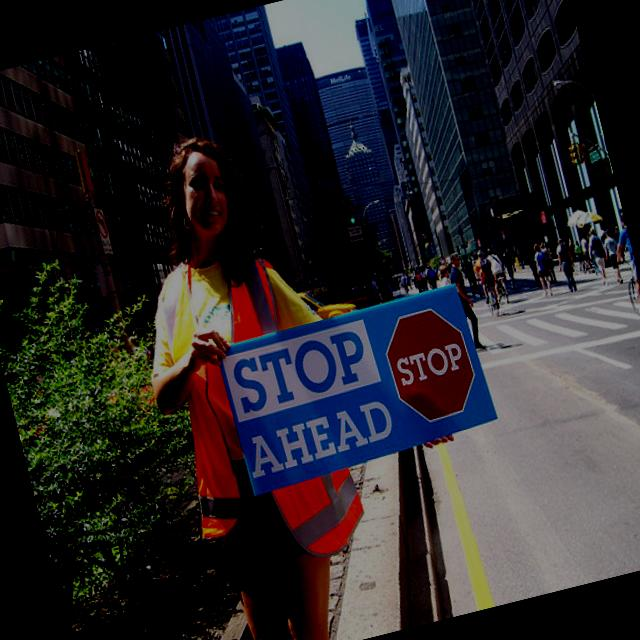Vehicle: (294, 277, 360, 325)
